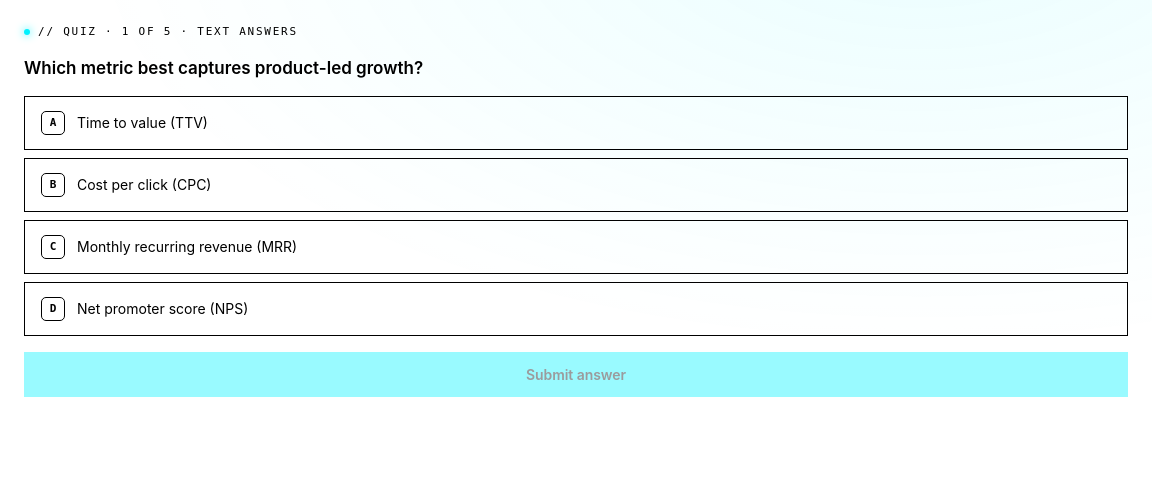
Test case: QuizExperience › submitting shows correct feedback and disables choices
Click the button "A Time to value (TTV)" at (142, 122), box [24,96,1128,150]
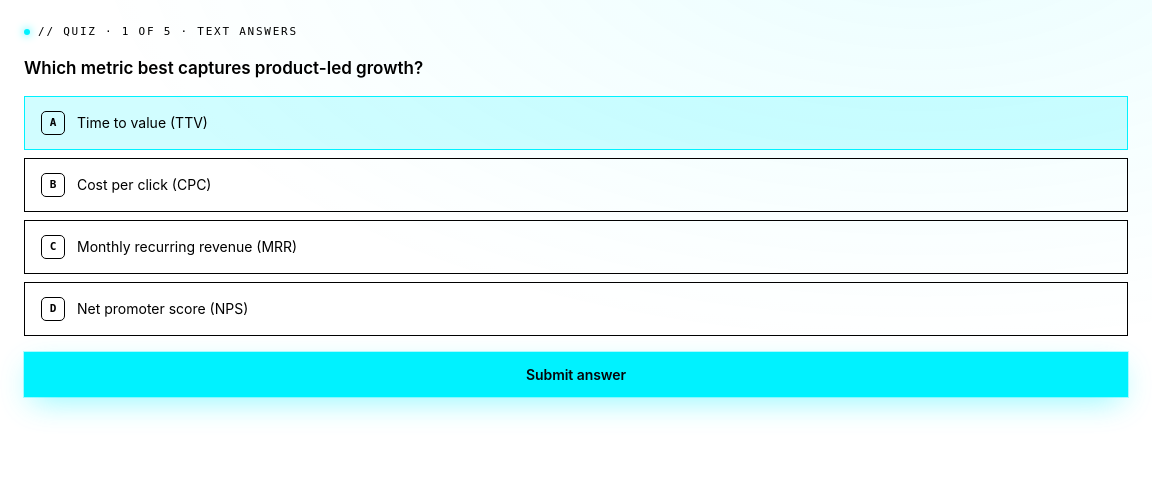
Click the button "Submit answer" at (576, 374), box [24,352,1128,397]
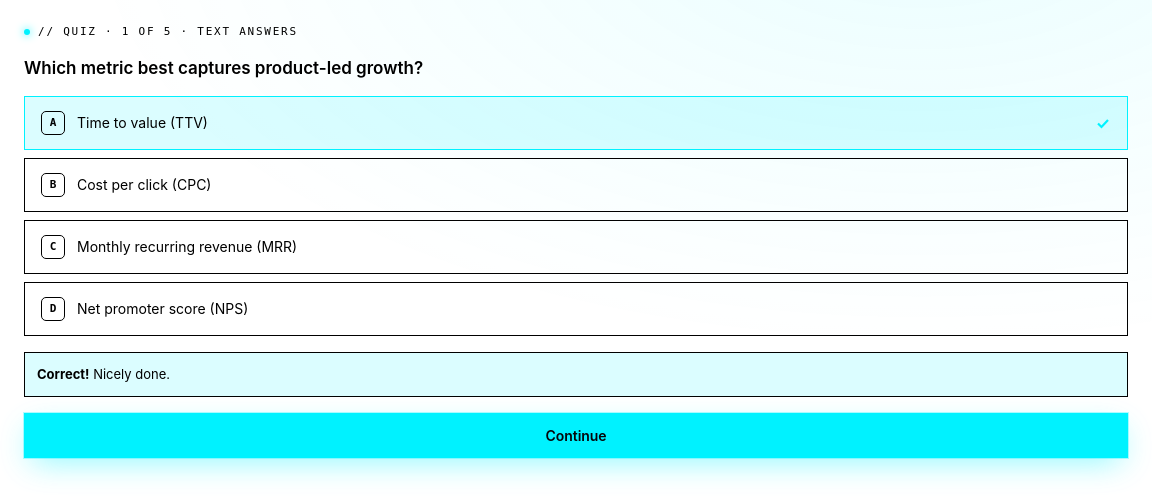
expect the text "Correct!" is shown: met, box [37,366,90,382]
expect the button "A Time to value (TTV)" is disabled: met, box [24,96,1128,150]
